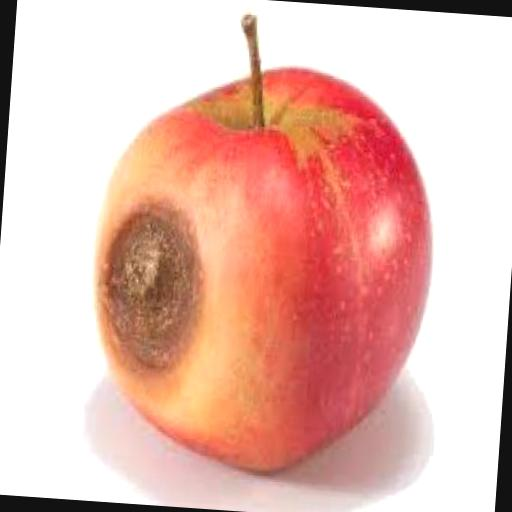biodegradable: (80, 2, 448, 481)
